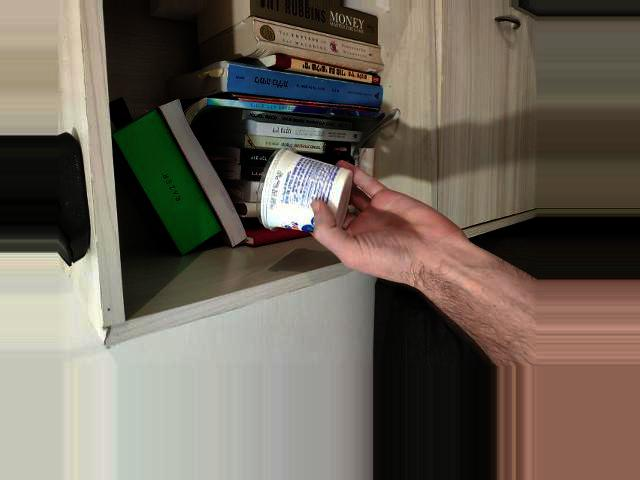cotage: (252, 144, 373, 242)
